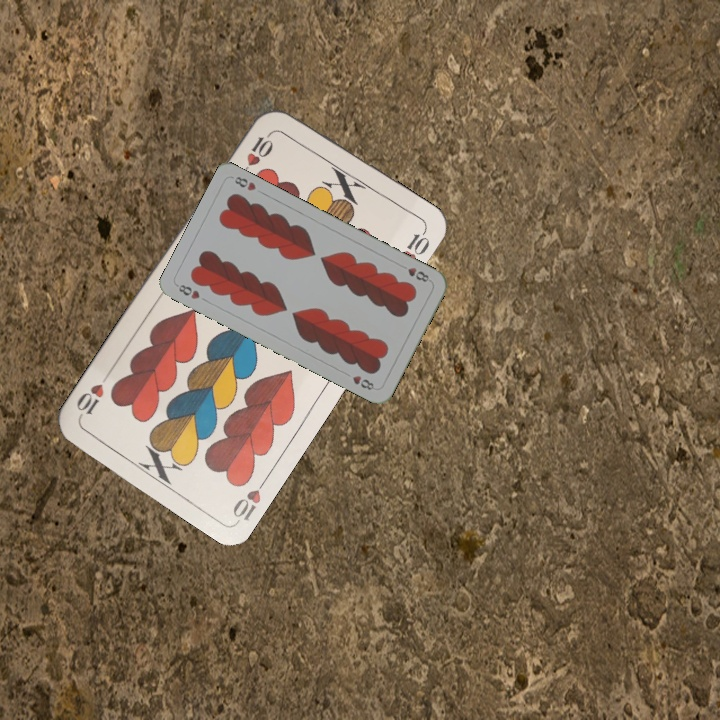H10: (228, 472, 271, 524), (236, 127, 275, 179)
H8: (403, 263, 432, 285), (173, 280, 202, 302)
